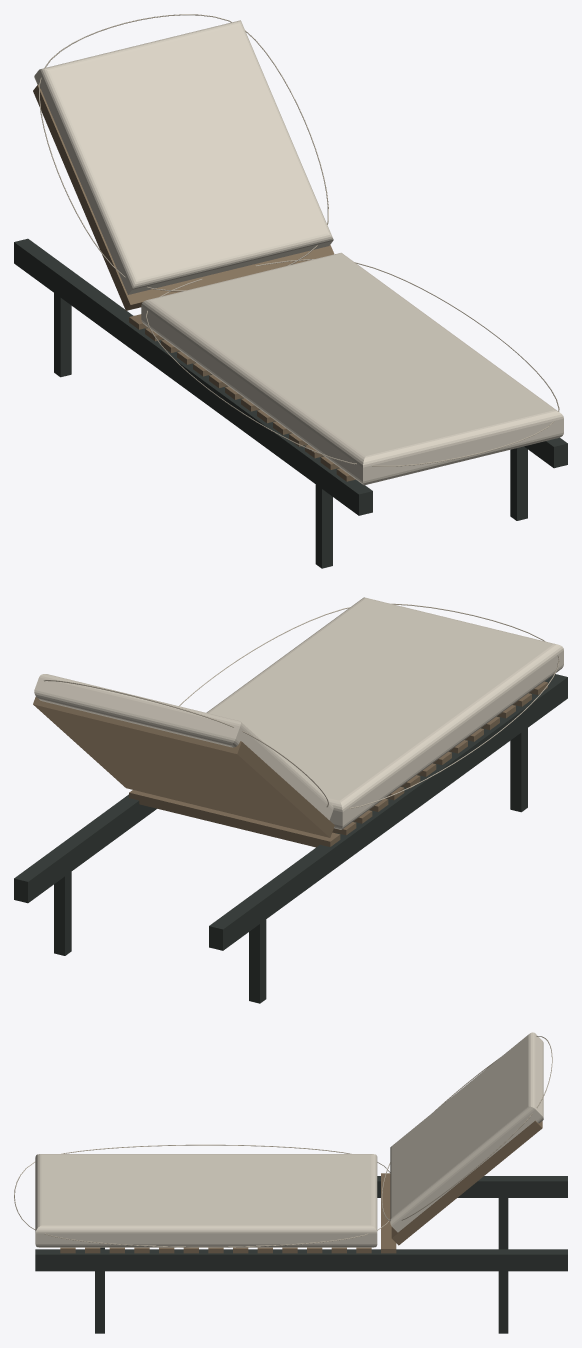
Rendered from lounge-chair-lod0.glb.
The picture shows the model from 3 angles, top to bottom: view 1: azimuth 30°, elevation 25°; view 2: azimuth 150°, elevation 25°; view 3: azimuth 270°, elevation 25°; orthographic projection. The views are drawn at different scales.
Visible parts, largest first — view 1: Natural woven outdoor cushion, Powder-coated charcoal frame, Warm teak slats, Cushion stitched piping; view 2: Natural woven outdoor cushion, Warm teak slats, Powder-coated charcoal frame, Cushion stitched piping; view 3: Natural woven outdoor cushion, Powder-coated charcoal frame, Warm teak slats, Cushion stitched piping.
Part boxes in pixels (x1,y1,x2,y2): Natural woven outdoor cushion: (34,20,563,485); Powder-coated charcoal frame: (14,238,567,568); Warm teak slats: (33,84,355,481); Cushion stitched piping: (39,14,559,466); Natural woven outdoor cushion: (34,597,563,829); Warm teak slats: (33,681,547,847); Powder-coated charcoal frame: (14,674,567,1003); Cushion stitched piping: (44,603,559,808); Natural woven outdoor cushion: (35,1032,543,1247); Powder-coated charcoal frame: (35,1176,567,1333); Warm teak slats: (60,1120,542,1253); Cushion stitched piping: (14,1036,552,1247).
Bounding box in the file's own units: 0.8639 × 0.9263 × 1.98.
